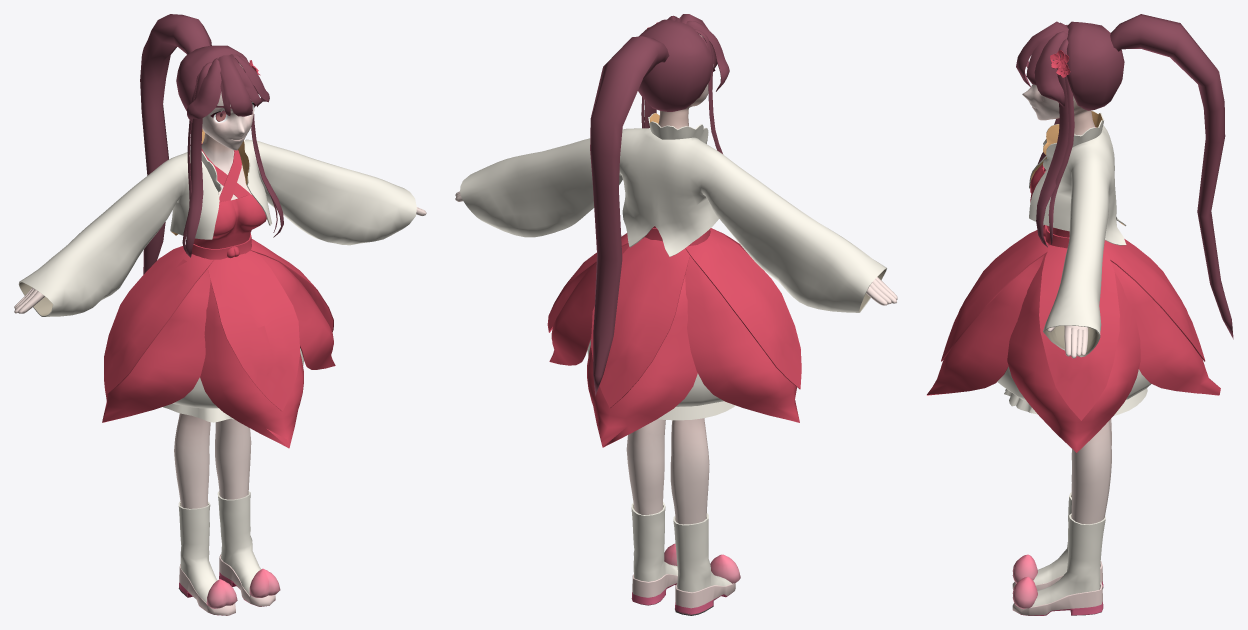
Rendered from girl_v3.FBX.
3 views of the same model, side by side, from view 1: azimuth 30°, elevation 25°; view 2: azimuth 150°, elevation 25°; view 3: azimuth 270°, elevation 25° (orthographic). The views are drawn at different scales.
Parts seen in each view (by area): view 1: Object094, Object091, Object082, Object089; view 2: Object091, Object094, Object082, Object089; view 3: Object094, Object091, Object082, Object089.
Boxes of the visible parts, x1,y1,x2,y2 form: Object094: (102, 60, 335, 448); Object091: (18, 129, 416, 615); Object082: (140, 14, 283, 274); Object089: (14, 63, 426, 508); Object091: (460, 113, 886, 615); Object094: (547, 22, 801, 447); Object082: (590, 14, 729, 395); Object089: (455, 34, 897, 524); Object094: (927, 50, 1220, 452); Object091: (997, 110, 1151, 615); Object082: (1016, 14, 1233, 339); Object089: (1022, 84, 1111, 524).
Size of the model in its own units: 5.55 by 7.07 by 3.37.
